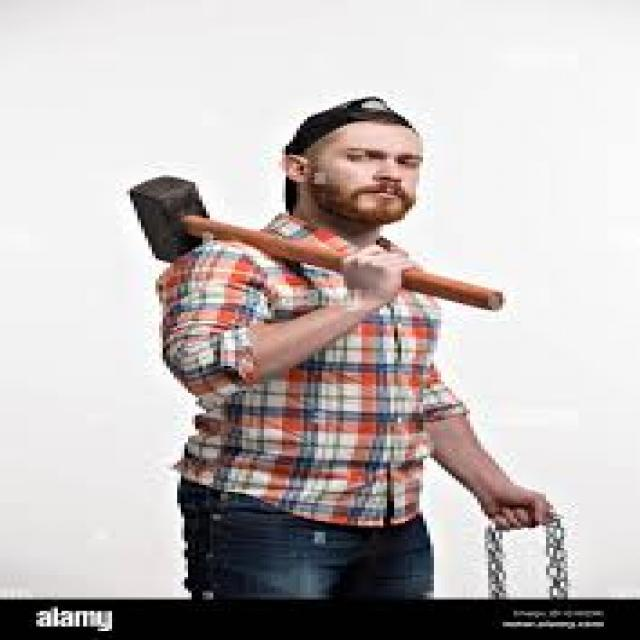hammer: (118, 163, 522, 318)
